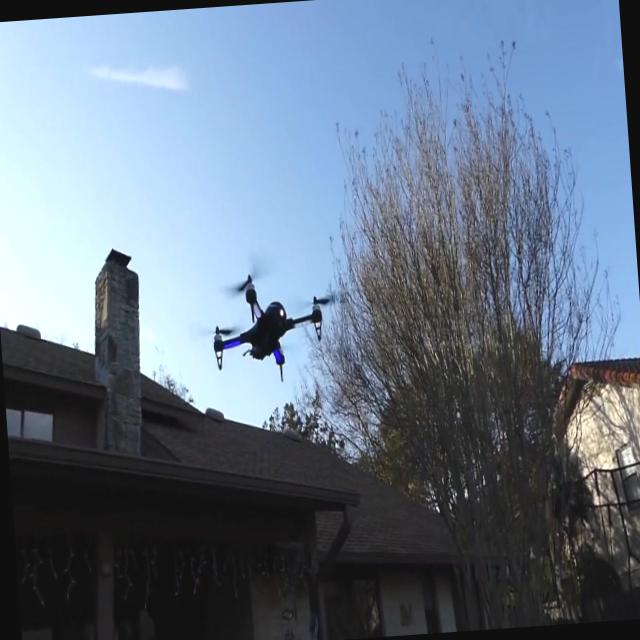drone: (207, 264, 336, 387)
